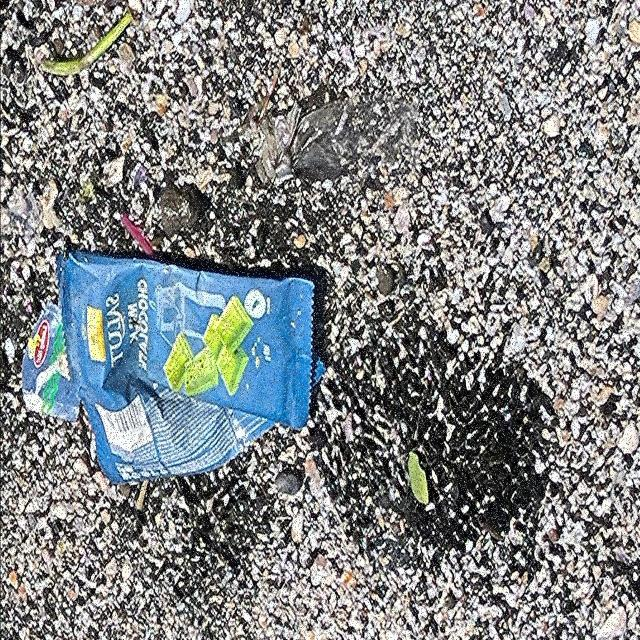plastic_waste: (56, 244, 318, 487), (22, 301, 82, 426)
